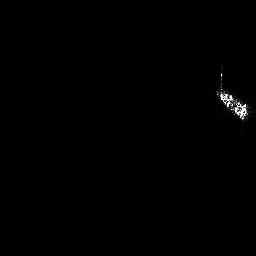ship: (214, 71, 248, 123)
